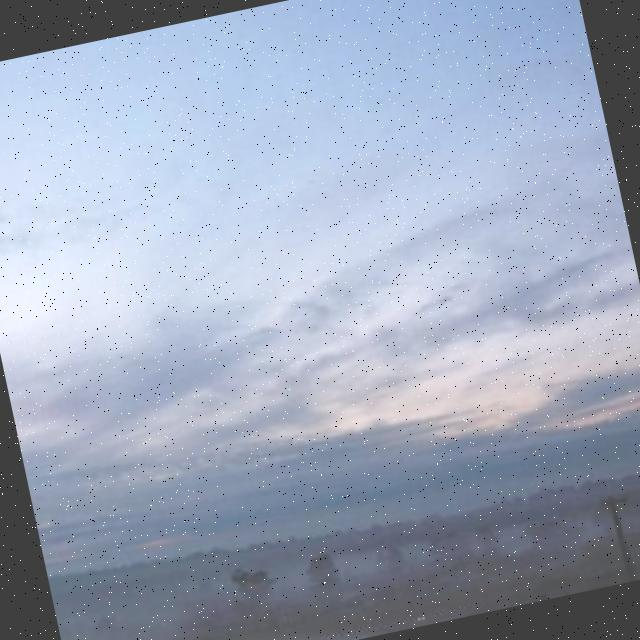As: (1, 66, 640, 528)
